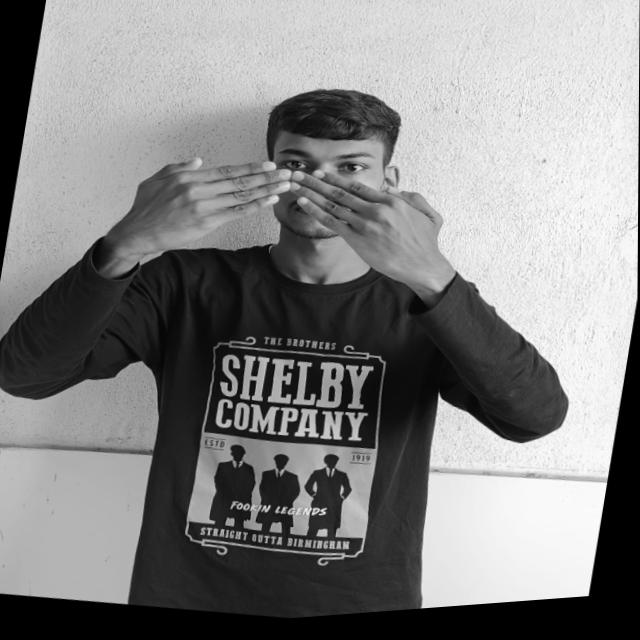Night: (113, 129, 455, 321)
